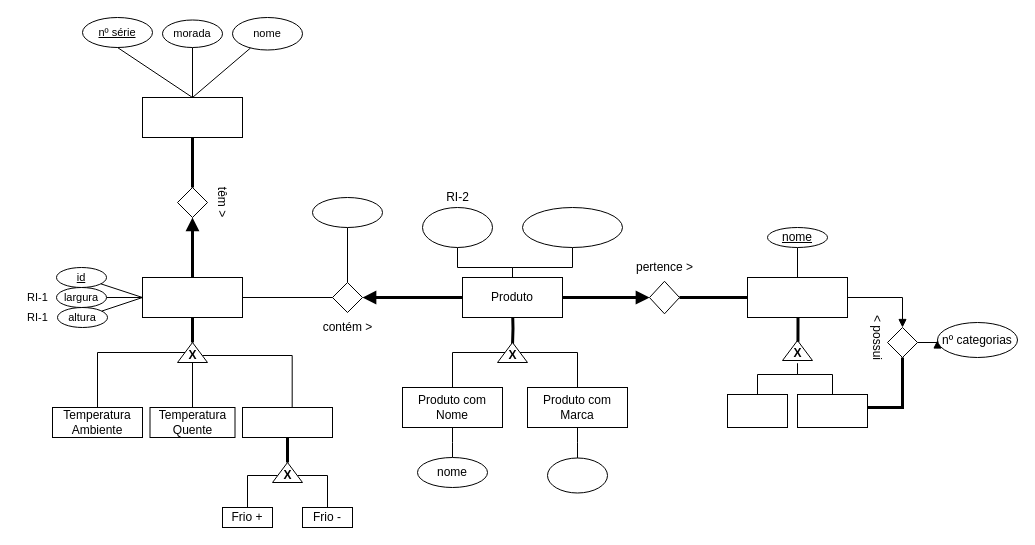
Image size: 1035x545. Some labels were removed from this diagram. The shapes that lost their labels are listed below. From the top down, each one's centre as x and y in pixels, then its label:
At (192,117): "IVMs".
At (347,212): "nºmáximo".
At (457,227): "código EAN".
At (572,227): "designação textual".
At (192,297): "Prateleiras".
At (797,297): "Categorias".
At (287,422): "Temperatura Fria".
At (757,411): "Categorias Simples".
At (832,411): "Super Categorias".
At (577,475): "marca".
